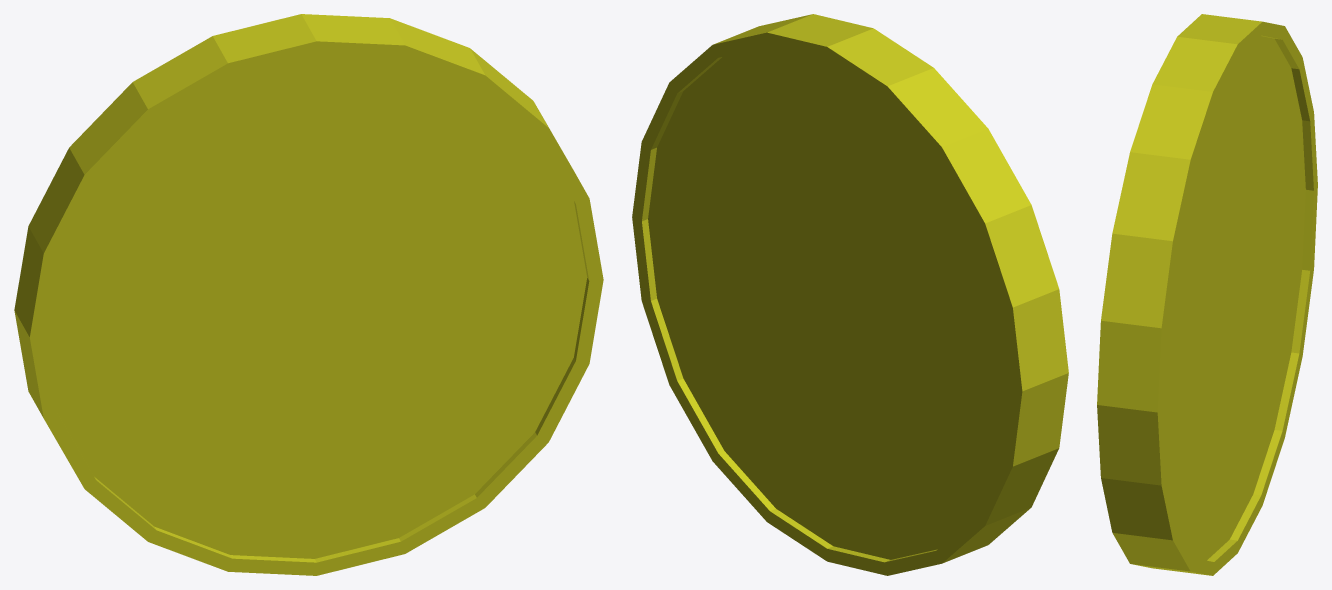
The model's file is Low Poly Coin_000073.obj.
3 renders of one model, left to right at view 1: azimuth 30°, elevation 25°; view 2: azimuth 150°, elevation 25°; view 3: azimuth 270°, elevation 25°, orthographic. The views are drawn at different scales.
Parts seen in each view (by area): view 1: Cylinder; view 2: Cylinder; view 3: Cylinder.
Part boxes in pixels (x1=…): Cylinder: x1=14, y1=14, x2=603, y2=575; Cylinder: x1=632, y1=14, x2=1068, y2=575; Cylinder: x1=1097, y1=14, x2=1317, y2=575.
Size of the model in its own units: 1.98 by 2 by 0.787.
